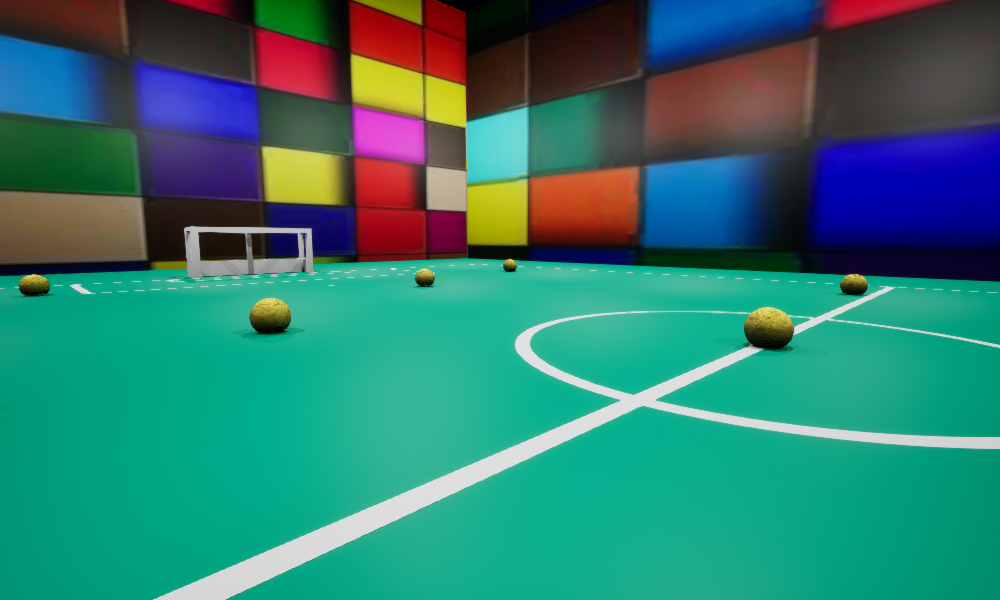b: (744, 307, 793, 348), (249, 298, 290, 333), (18, 274, 49, 295), (840, 274, 867, 294), (415, 268, 434, 285), (503, 259, 516, 271)
g: (184, 226, 313, 277)
